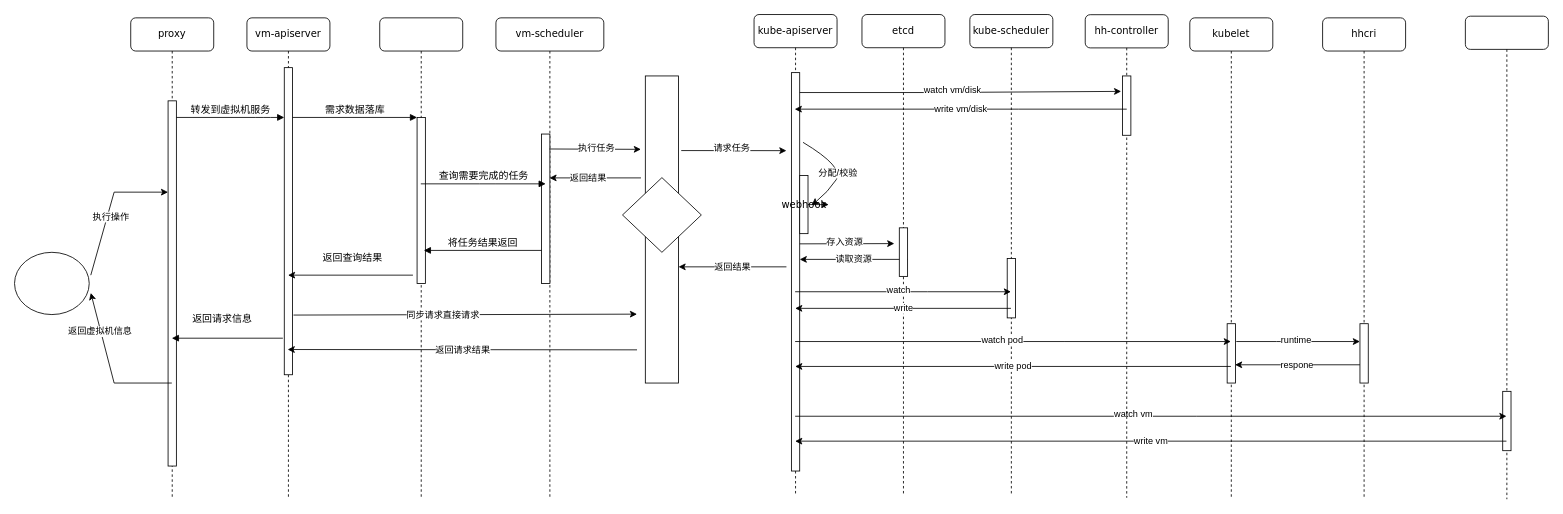
Image size: 1563x514. Some labels were removed from this diagram. The shapes that lost their labels are listed below. From the top down, each one's box as (x1, y1, x2, y2) in pixels, then its label:
(622, 177, 701, 252): huanghesdk
(379, 17, 463, 499): taishandb
(1465, 15, 1548, 499): hhlet
(14, 251, 89, 315): 用户控制台
